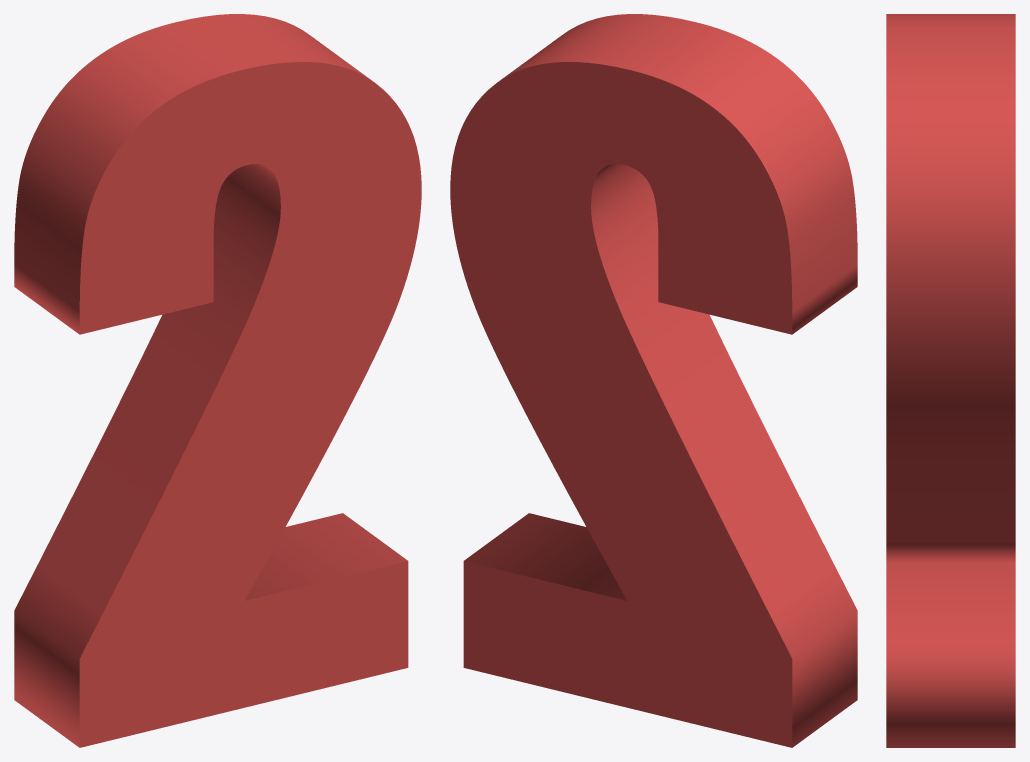
3 renders of one model, left to right at view 1: azimuth 30°, elevation 25°; view 2: azimuth 150°, elevation 25°; view 3: azimuth 270°, elevation 25°, orthographic.
Parts seen in each view (by area): view 1: テキスト; view 2: テキスト; view 3: テキスト.
Part boxes in pixels (x1,y1,x2,y2): テキスト: (14, 14, 421, 747); テキスト: (450, 14, 857, 747); テキスト: (886, 14, 1015, 747).
Size of the model in its own units: 0.3014 by 0.5376 by 0.1.
